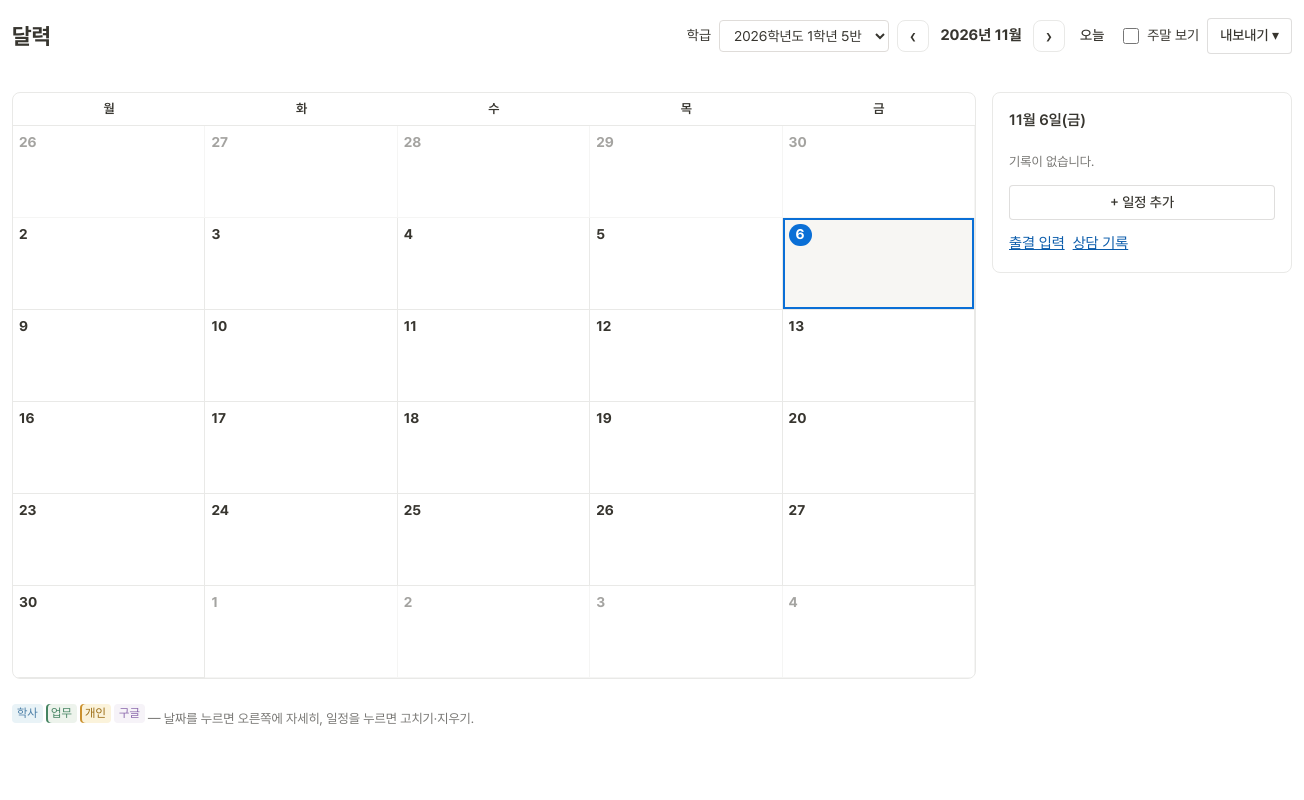
it: 일정 추가에서 날짜(와 끝 날짜)를 직접 고를 수 있다(고른 날이 기본)
Step 1. Click the cell named "11월 12일" → [686, 356], box [590, 310, 783, 402]
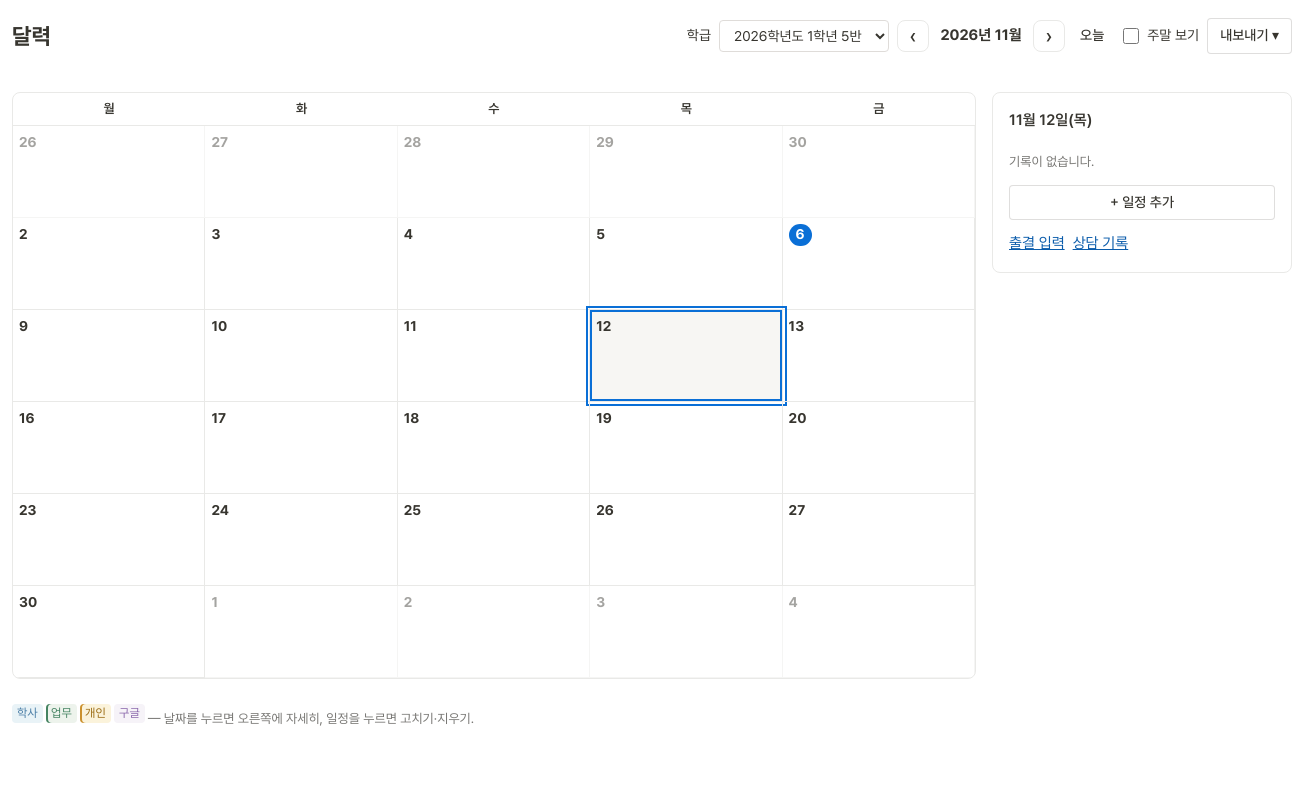
Step 2. Click the button "+ 일정 추가" → [1142, 202], box [1009, 185, 1275, 220]
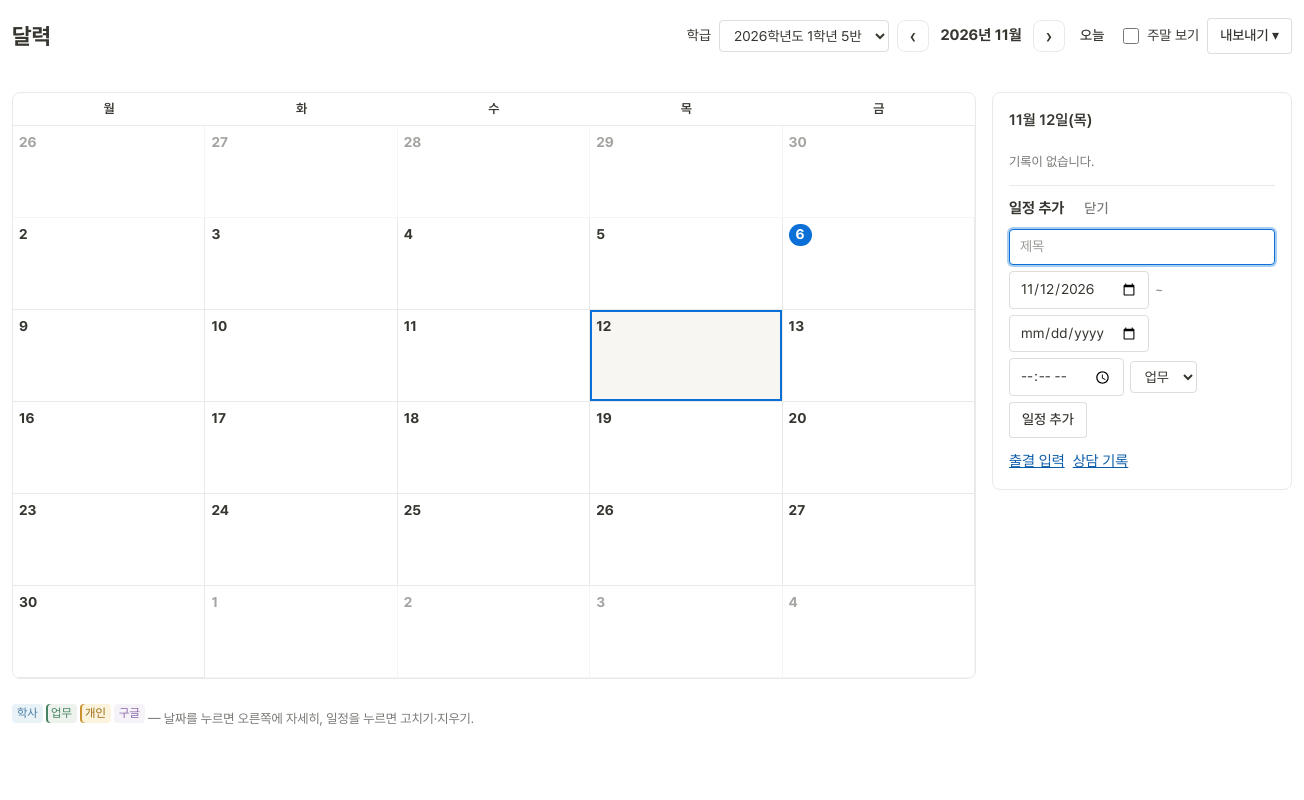
Now the date field named "날짜" holds "2026-11-12"
Step 3. Type "2026-11-18" into the date field named "날짜" → [1079, 290], box [1009, 271, 1149, 309]
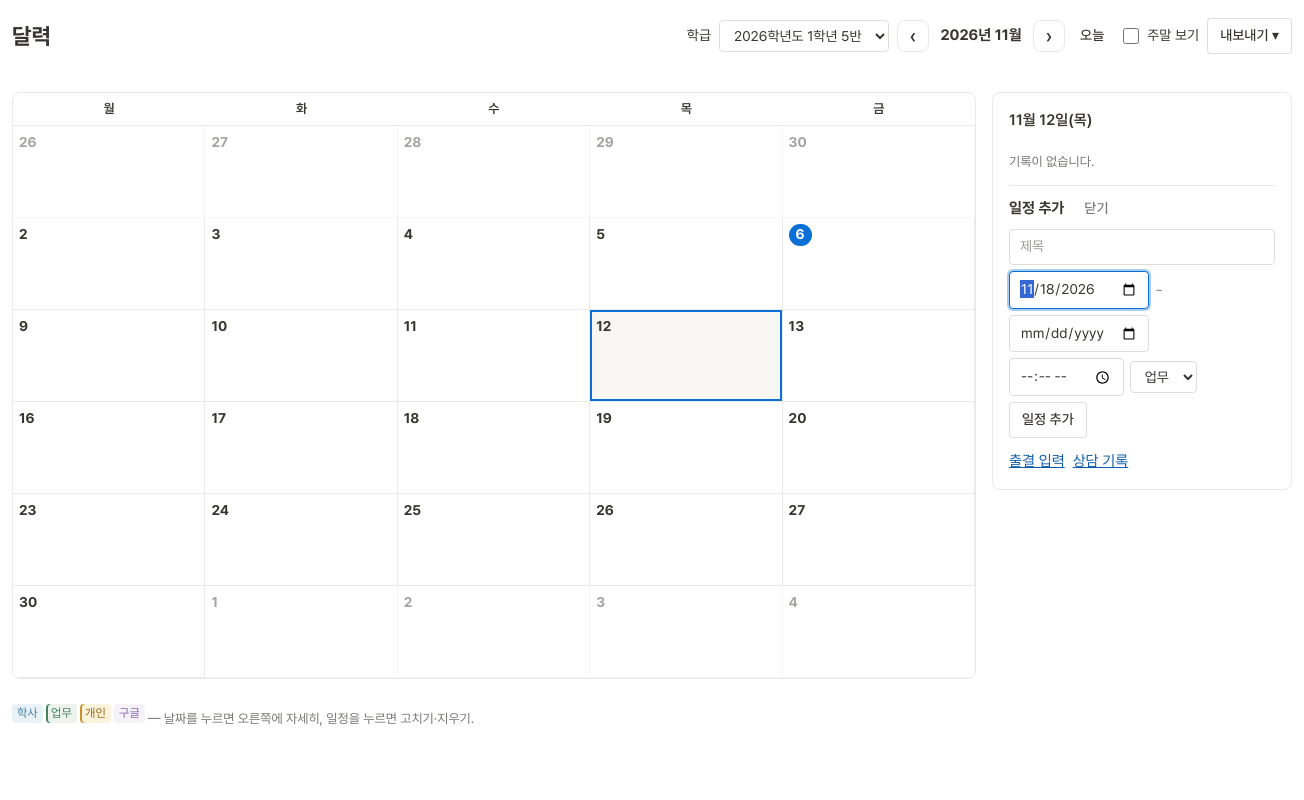
Step 4. Type "2026-11-19" into the date field named "끝 날짜" → [1079, 334], box [1009, 315, 1149, 352]
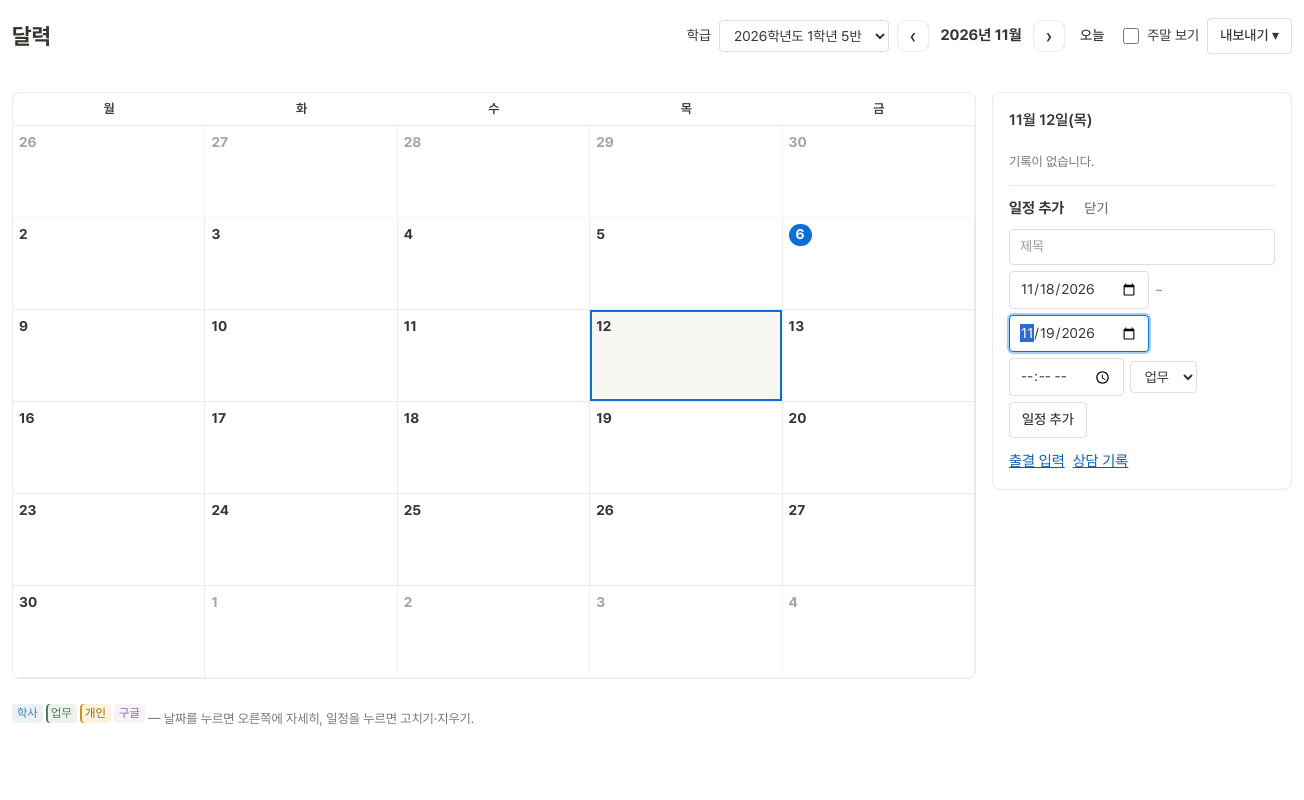
Step 5. Type "수련회" into the field named "일정 제목" → [1142, 247], box [1009, 229, 1275, 265]
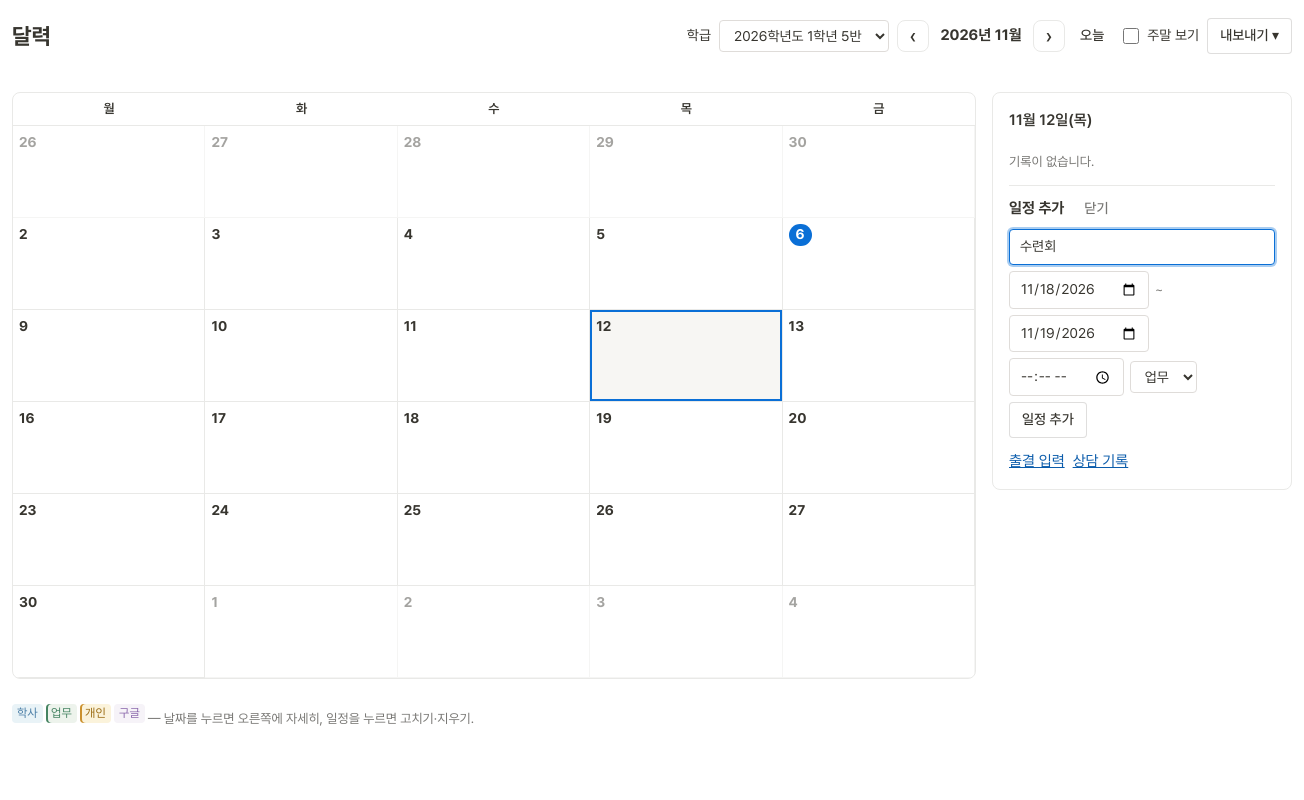
Step 6. Click the button "일정 추가" → [1048, 420], box [1009, 402, 1087, 438]
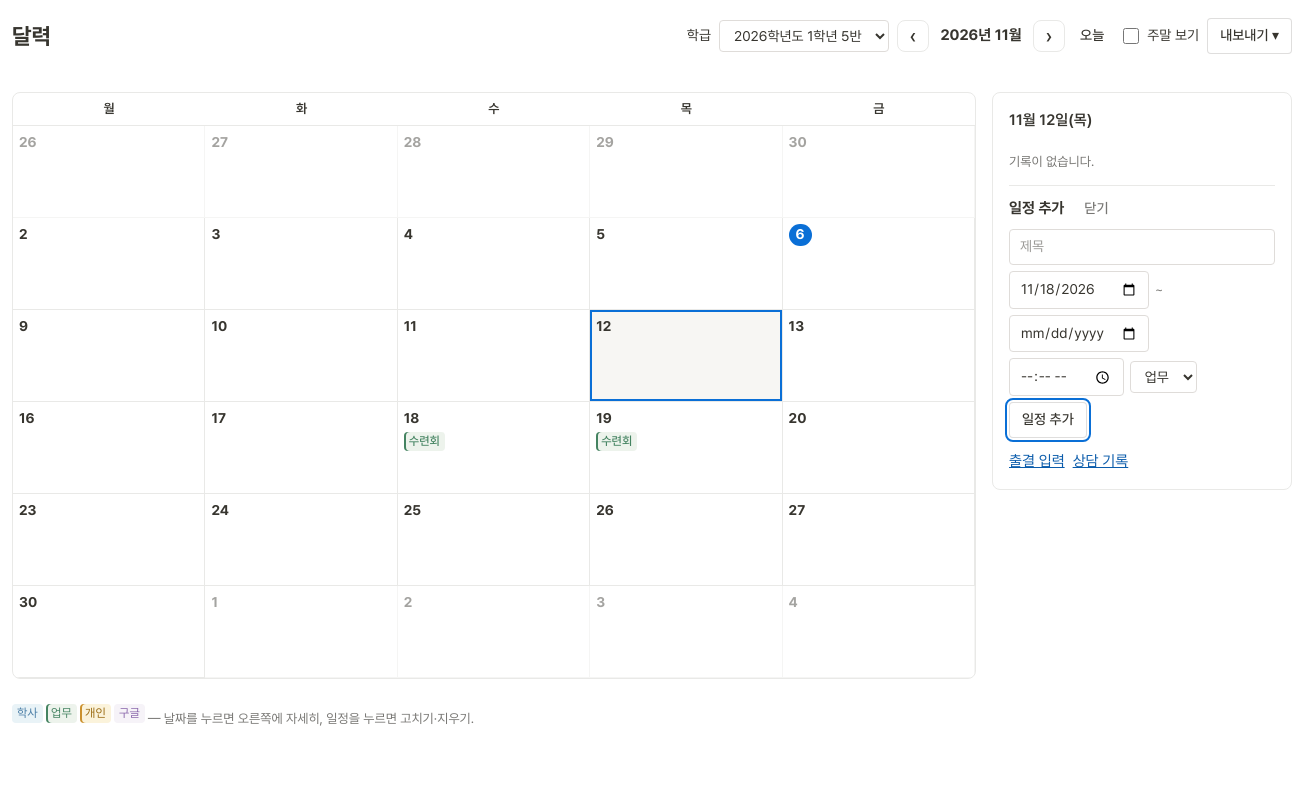
Now the 2nd text "수련회" is shown, box [596, 432, 637, 451]
